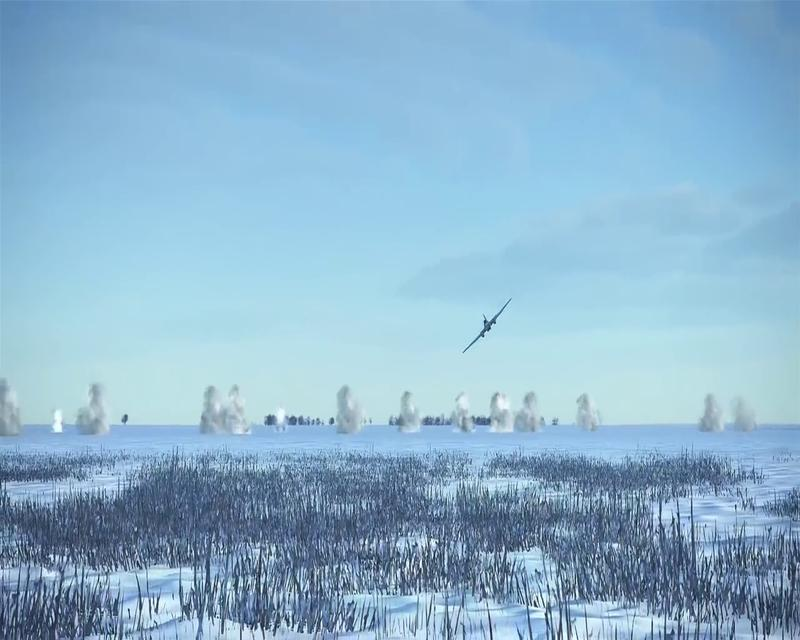UAV: (460, 298, 513, 354)
